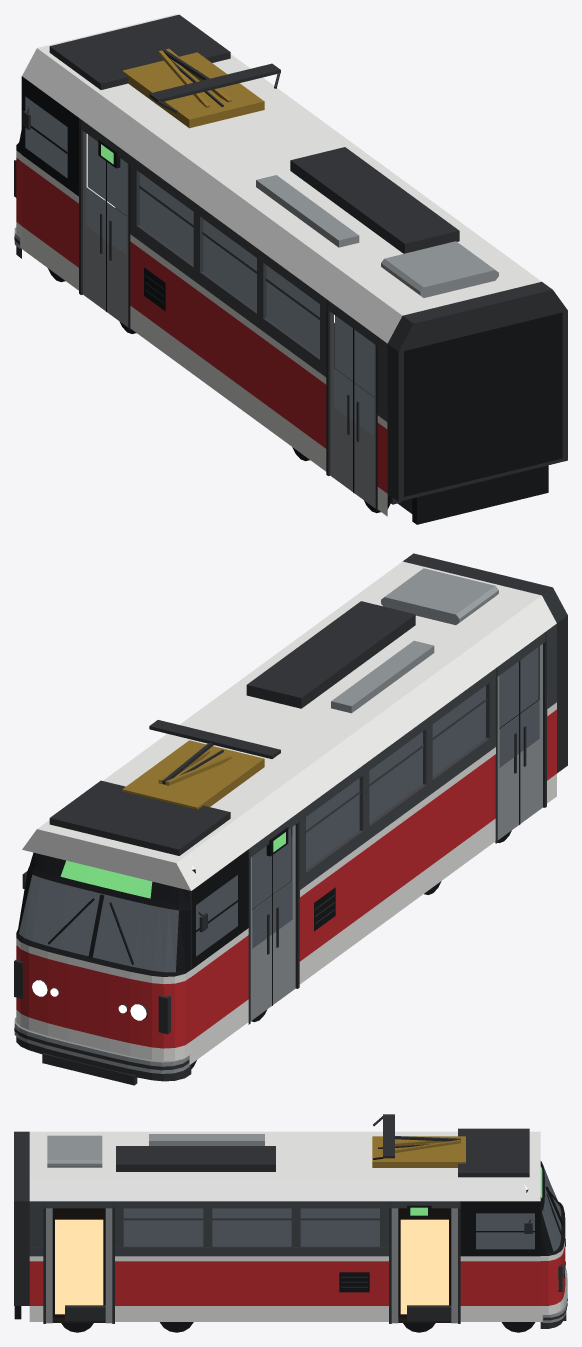
Rendered from kt8d5-a-open.glb.
3 views of the same model, one above another, from view 1: azimuth 30°, elevation 25°; view 2: azimuth 150°, elevation 25°; view 3: azimuth 270°, elevation 25° (orthographic). The views are drawn at different scales.
Visible parts, largest first — view 1: kt8d5-a-open; view 2: kt8d5-a-open; view 3: kt8d5-a-open.
Boxes of the visible parts, box(x1,y1,x2,y2) form: kt8d5-a-open: box(14, 14, 567, 524); kt8d5-a-open: box(14, 553, 567, 1085); kt8d5-a-open: box(14, 1114, 567, 1332).
Bounding box in the file's own units: 2.62 × 3.5 × 10.05.
